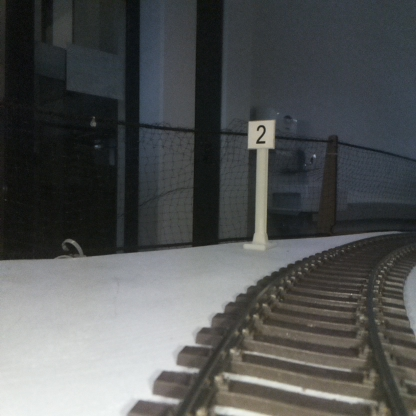white-info-2: (248, 119, 274, 247)
